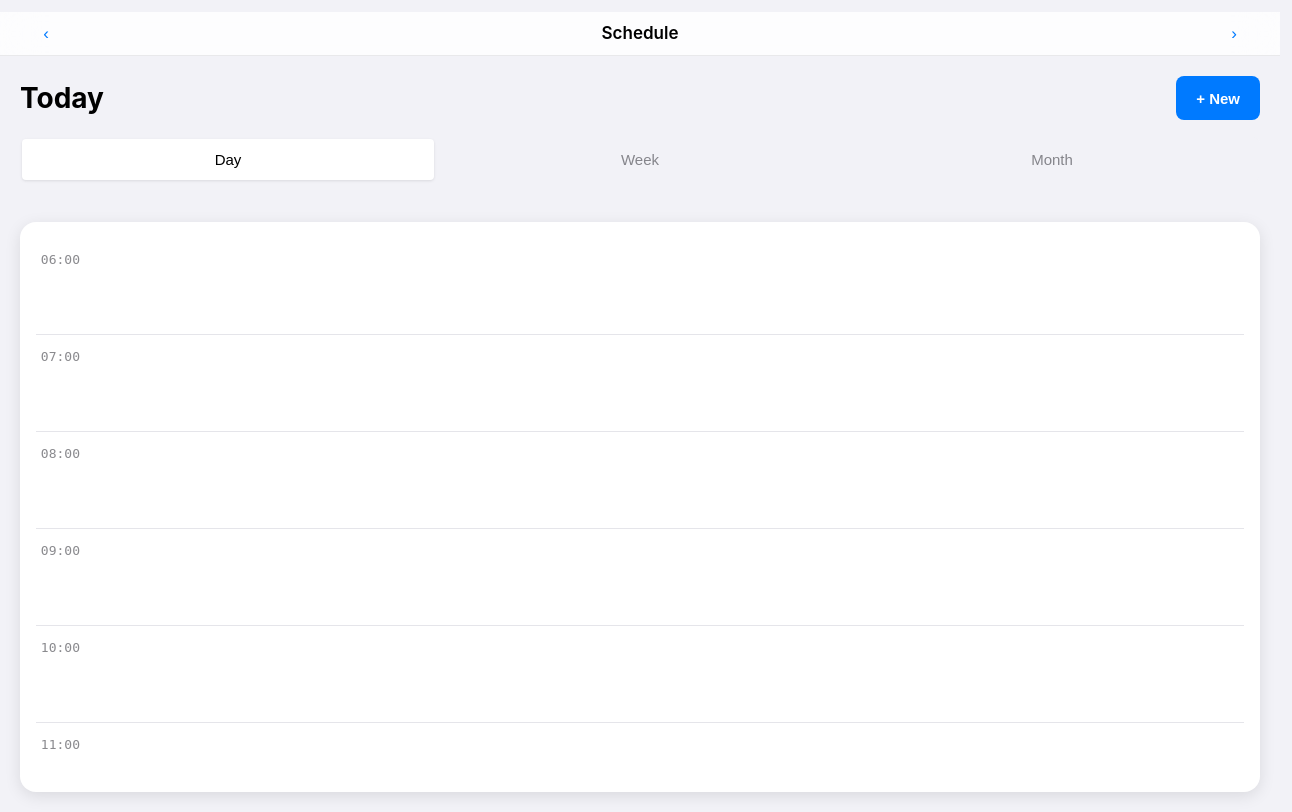
Test: Responsive Calendar Integration › should render calendar with responsive height in month view
# Switch to month view
Step 1. Click the button "Month" → {"x": 1052, "y": 159}, box left=846, top=139, right=1258, bottom=180
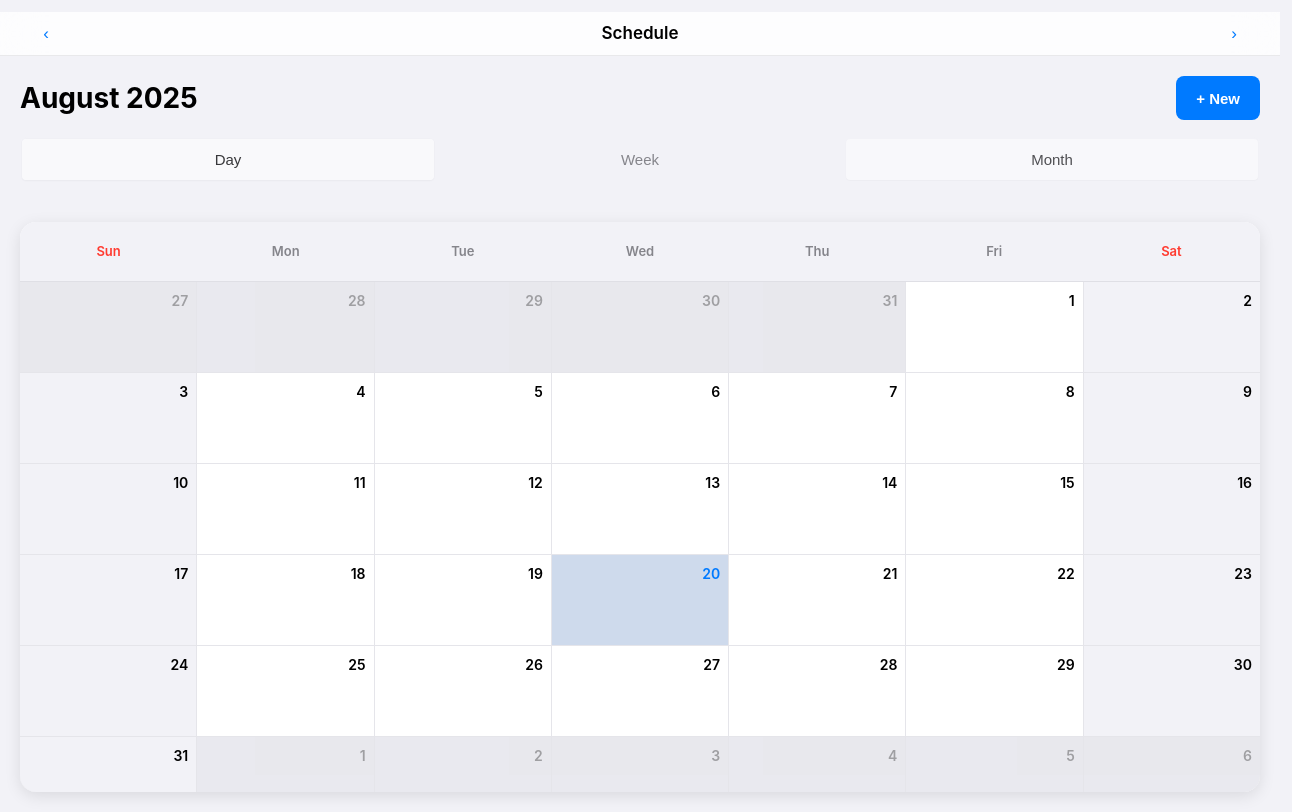
expect the text "Sun" is shown: met, box left=96, top=243, right=121, bottom=259
expect the text "Mon" is shown: met, box left=272, top=243, right=300, bottom=259
expect the element with class "apple-month-view" is shown: met
